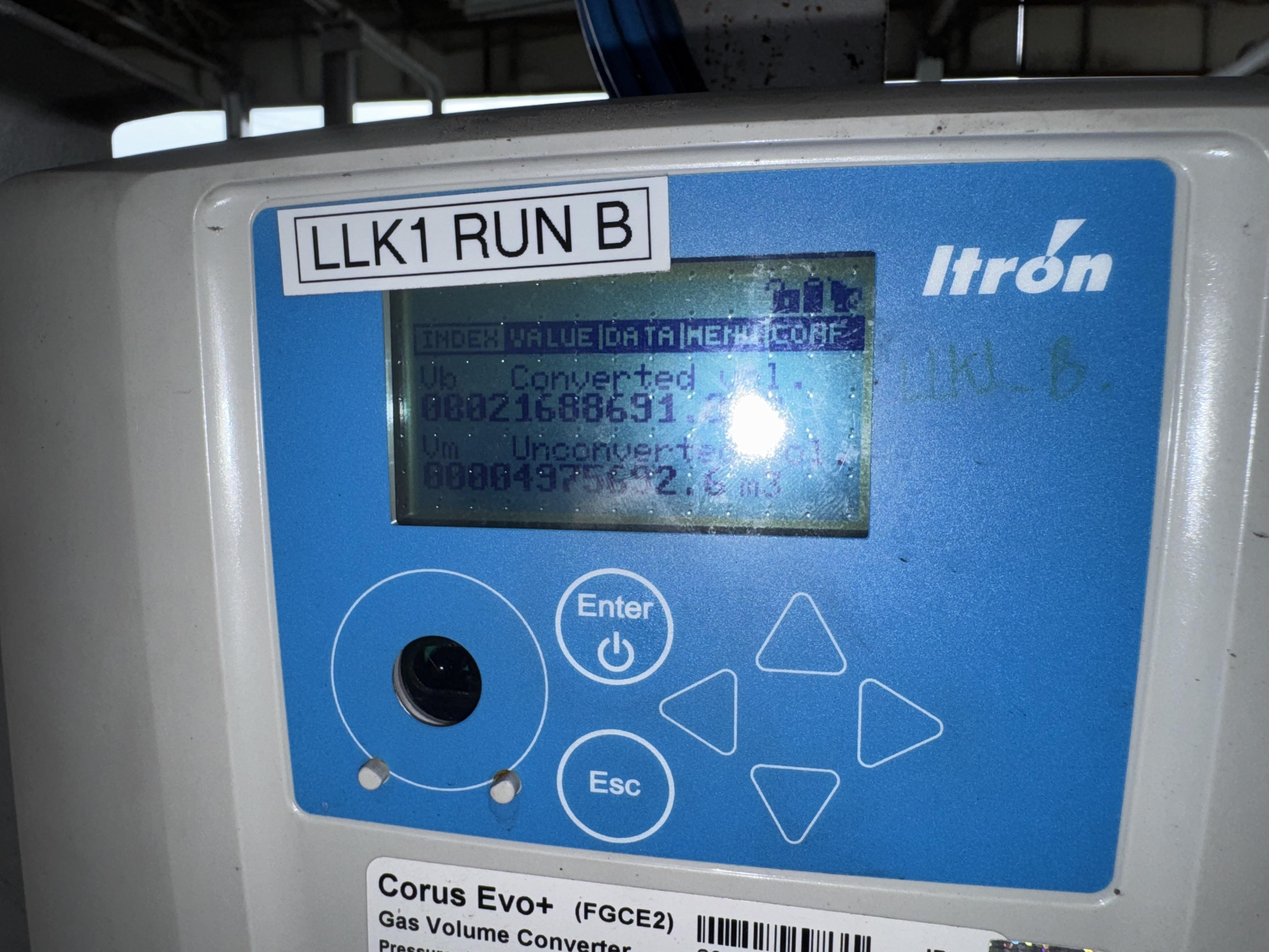digital_screen: (385, 251, 885, 552)
